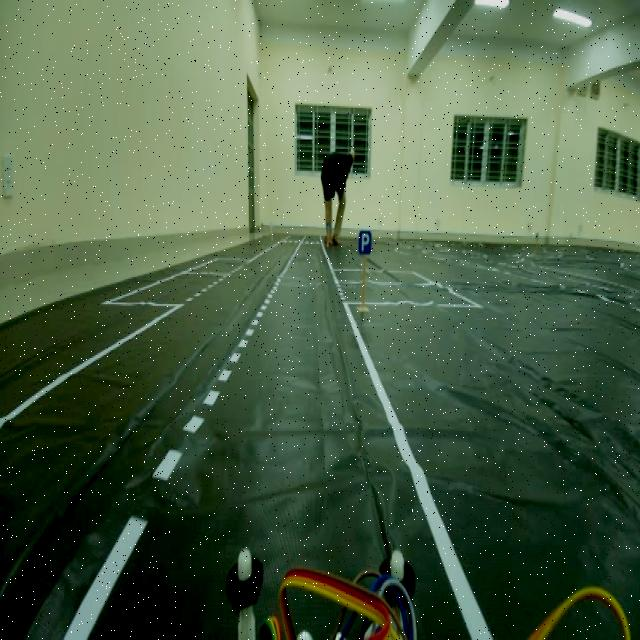parking: (355, 221, 377, 267)
